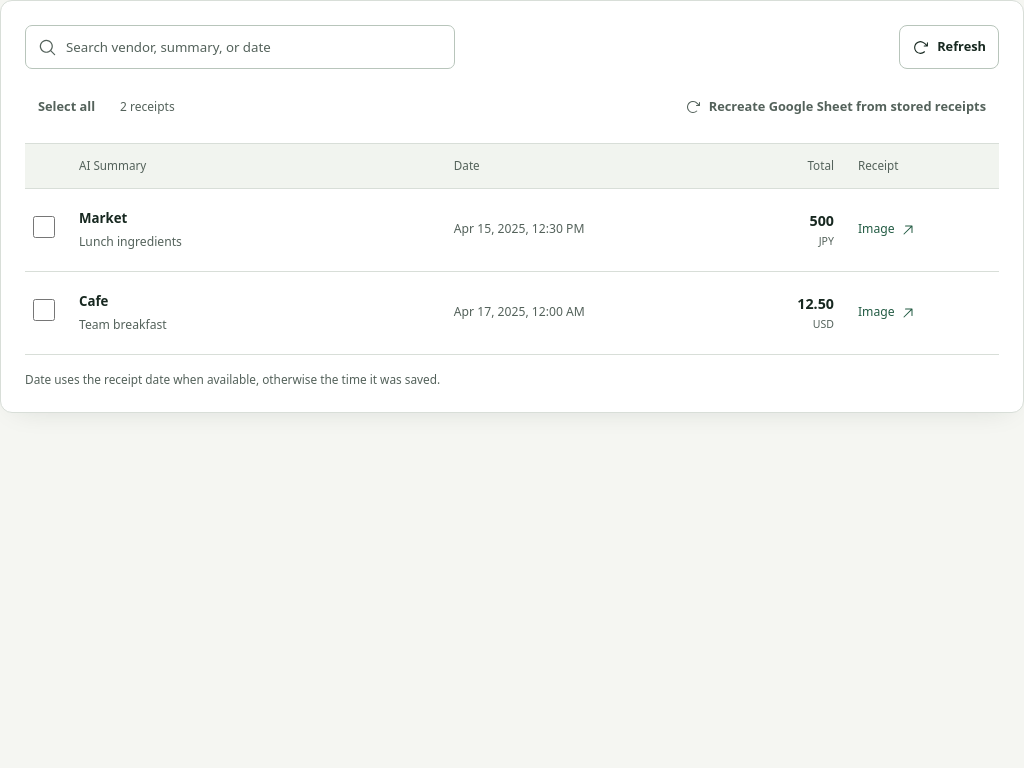
Test: saved receipts search clears hidden selections and cancellation does not delete
expect the text "Market" is shown: met, box [79,209,127,227]
Click the button "Select all".
click(67, 107)  # box [25,85,108,129]
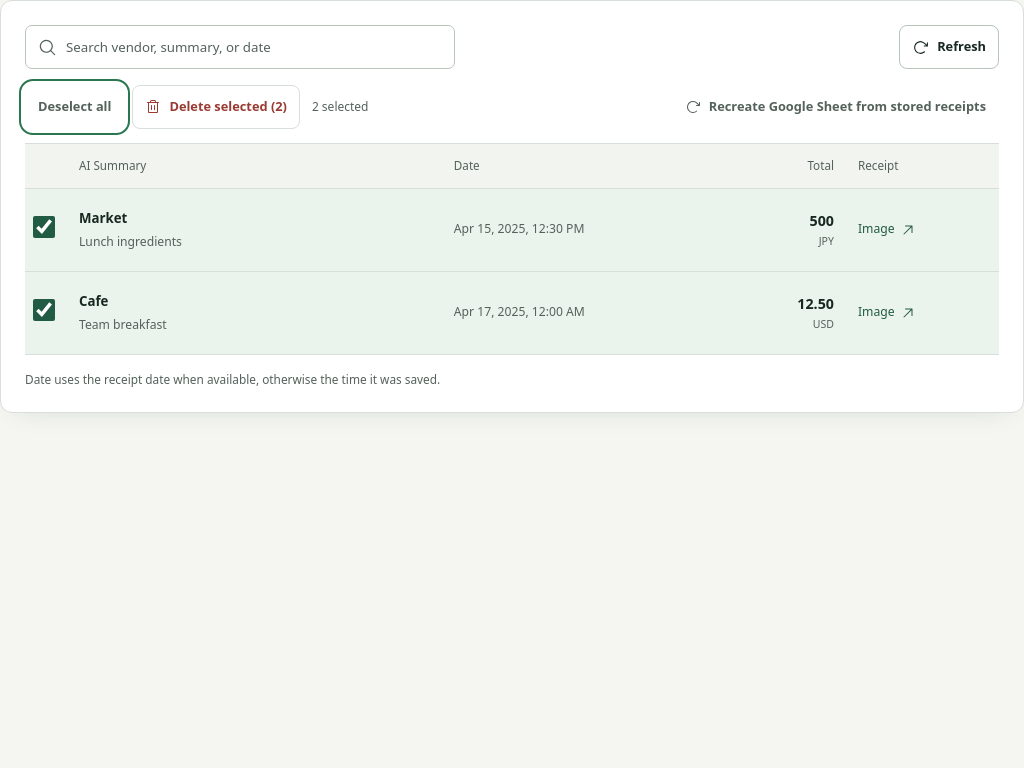
expect the button "Delete selected (2)" is shown: met, box [132,85,300,129]
Type "cafe" into the search field named "Search receipts".
click(240, 47); type("cafe")  # box [25,25,455,69]
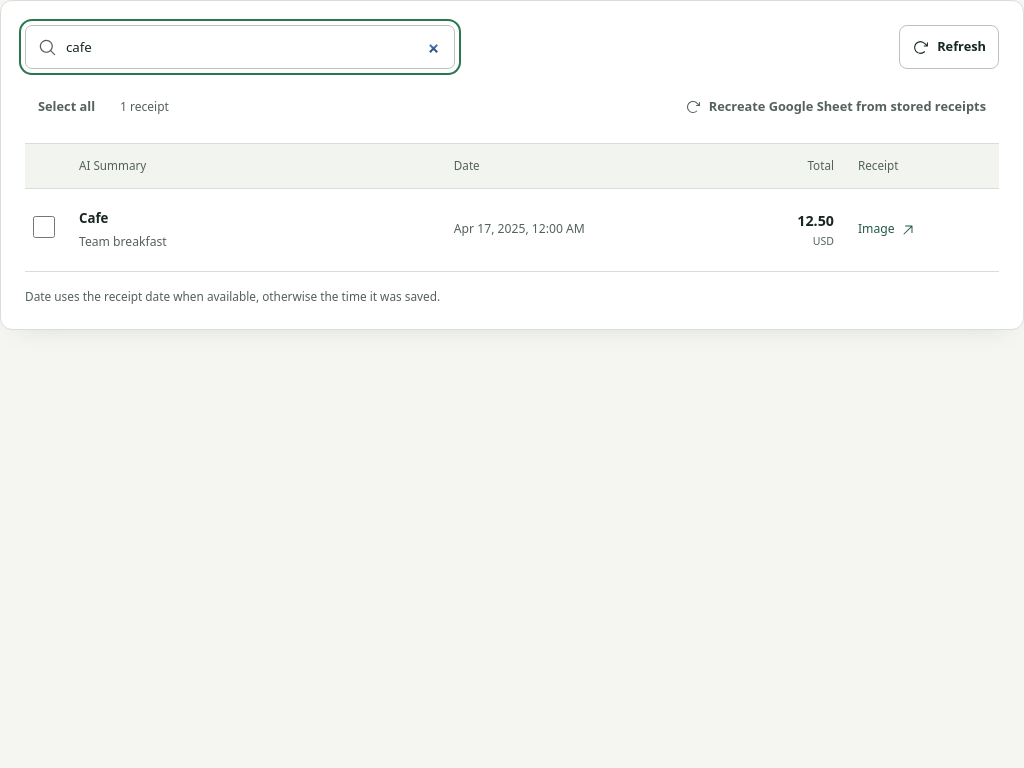
expect the text "Market" is gone: met
expect the button "Delete selected" is gone: met
Click the checkbox named "Select receipt cafe".
click(44, 227)  # box [33,216,55,238]
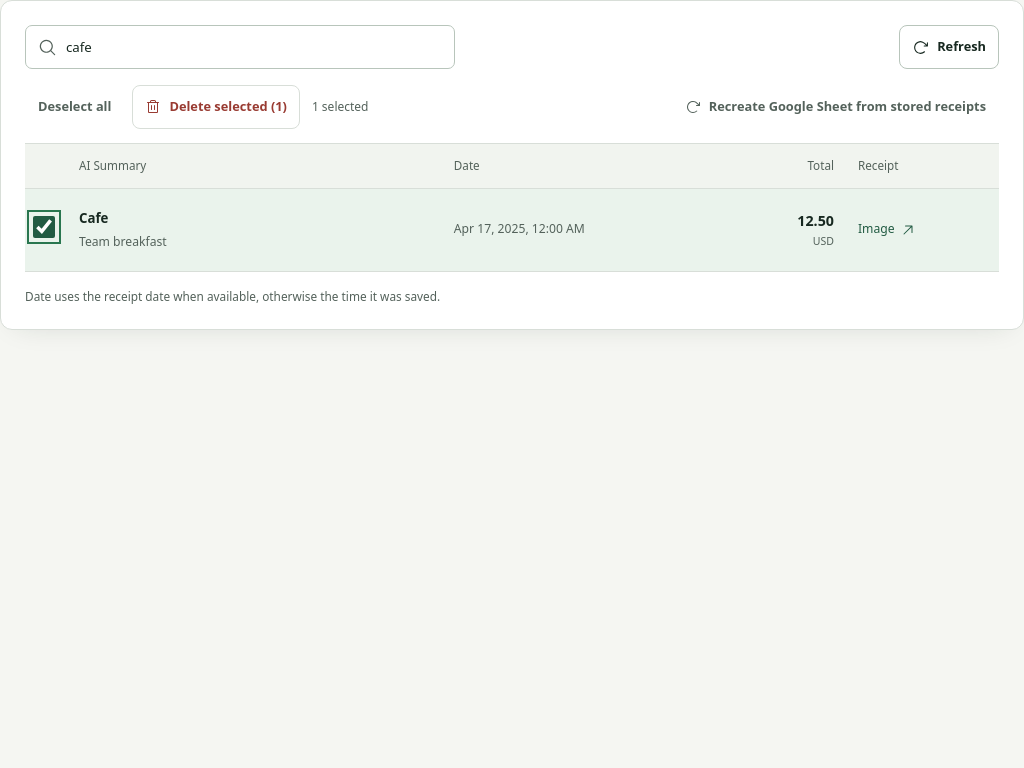
Click the button "Delete selected (1)".
click(216, 107)  # box [132,85,300,129]
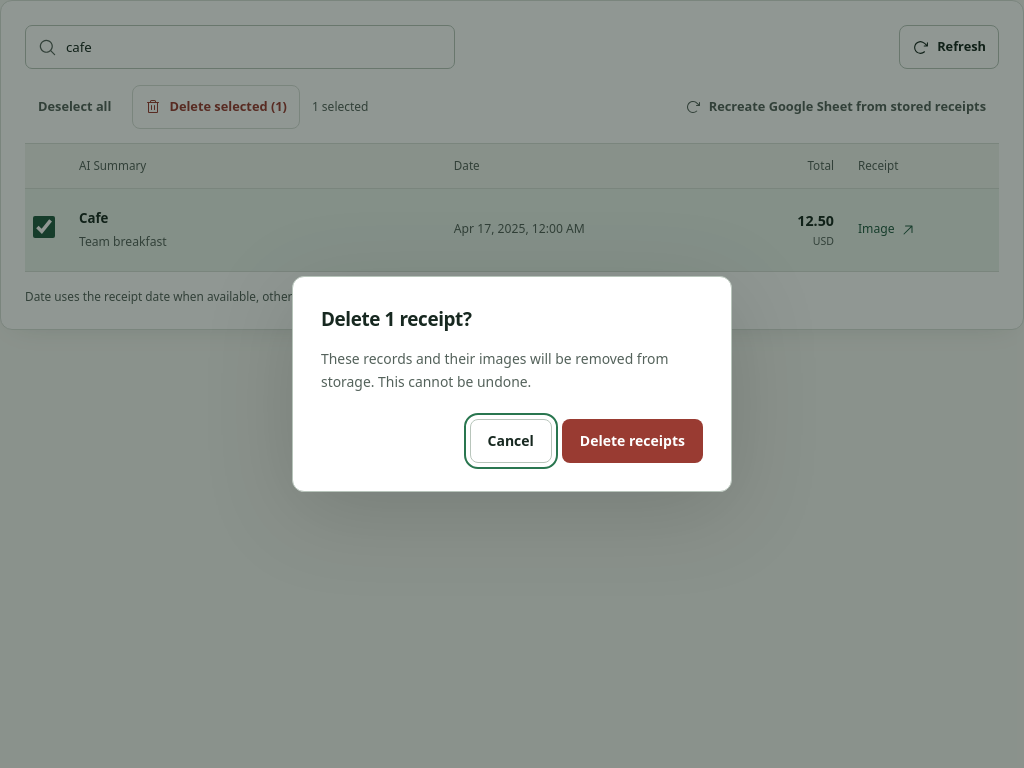
Click the button "Cancel".
click(511, 441)  # box [470,419,552,463]
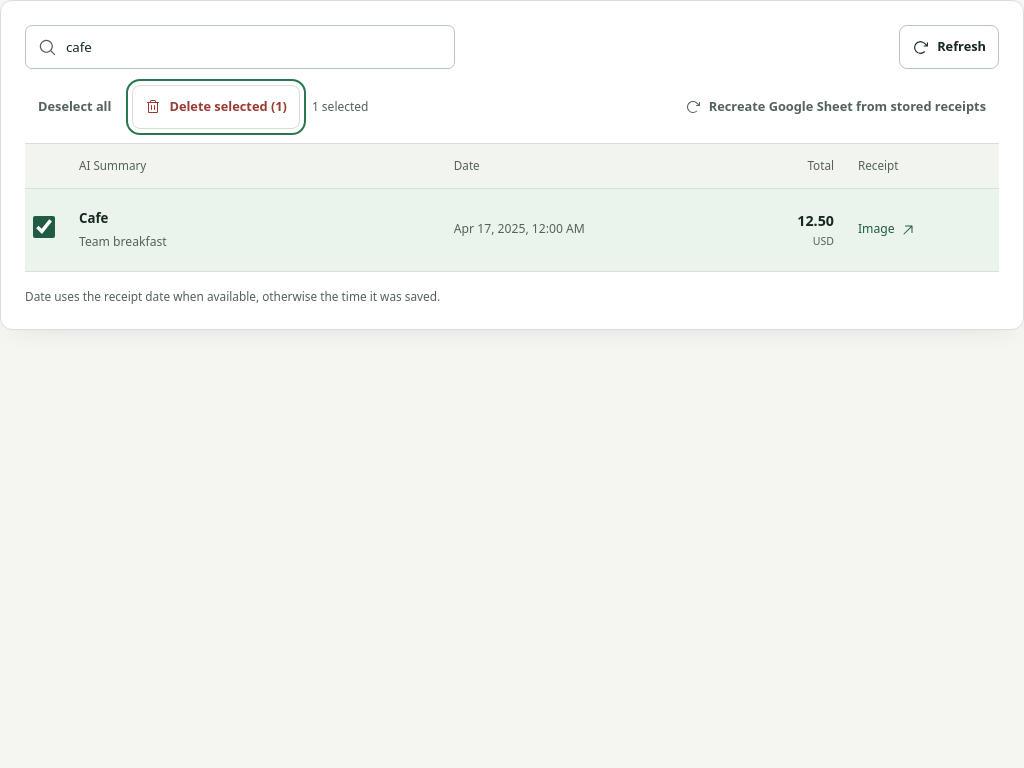
expect the dialog is gone: met
